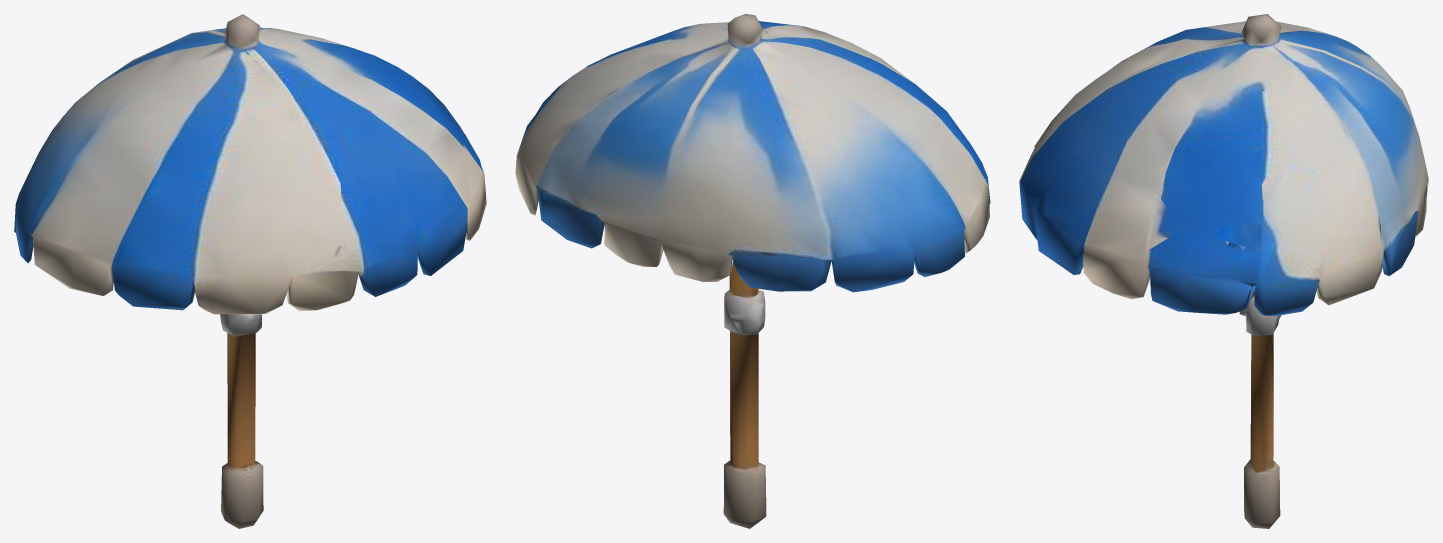
The model's file is umbrella.glb.
3 renders of one model, left to right at view 1: azimuth 30°, elevation 25°; view 2: azimuth 150°, elevation 25°; view 3: azimuth 270°, elevation 25°, orthographic.
Parts seen in each view (by area): view 1: model; view 2: model; view 3: model.
Boxes of the visible parts, x1,y1,x2,y2 form: model: (14,14,486,528); model: (515,14,990,528); model: (1019,14,1428,528).
Bounding box in the file's own units: 1.7 × 1.89 × 1.38.
Materials: 1 (1 with a texture image).
